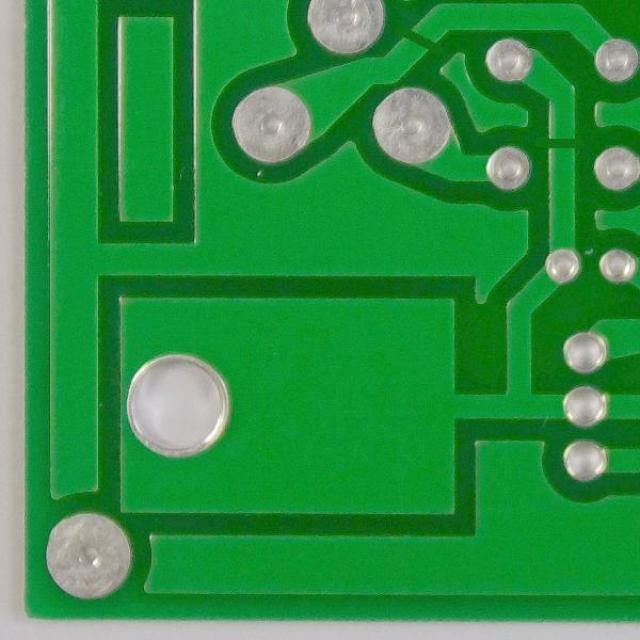Open_Circuit: (527, 120, 589, 170), (393, 14, 448, 62)
